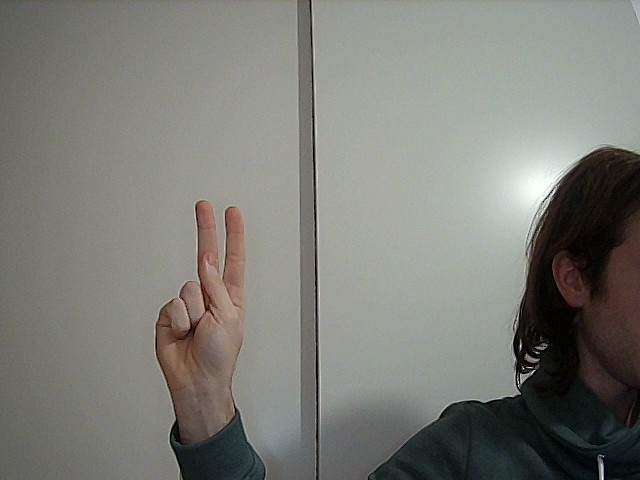k: (144, 193, 259, 373)
